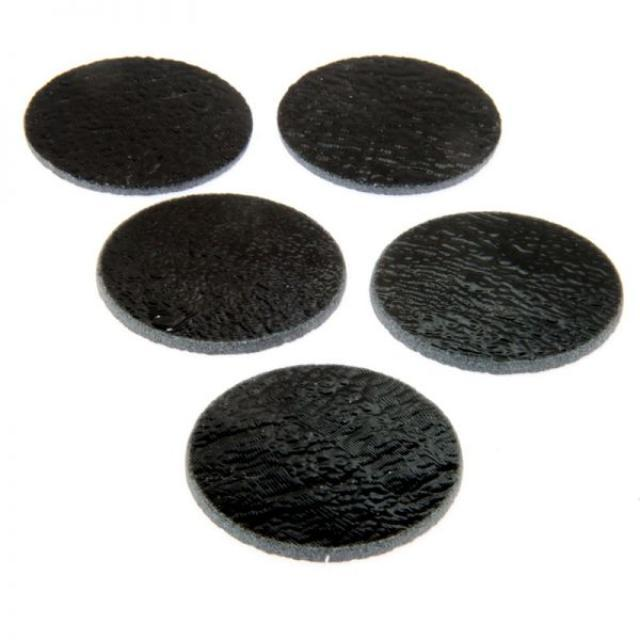hidden camera: (2, 1, 639, 640)
